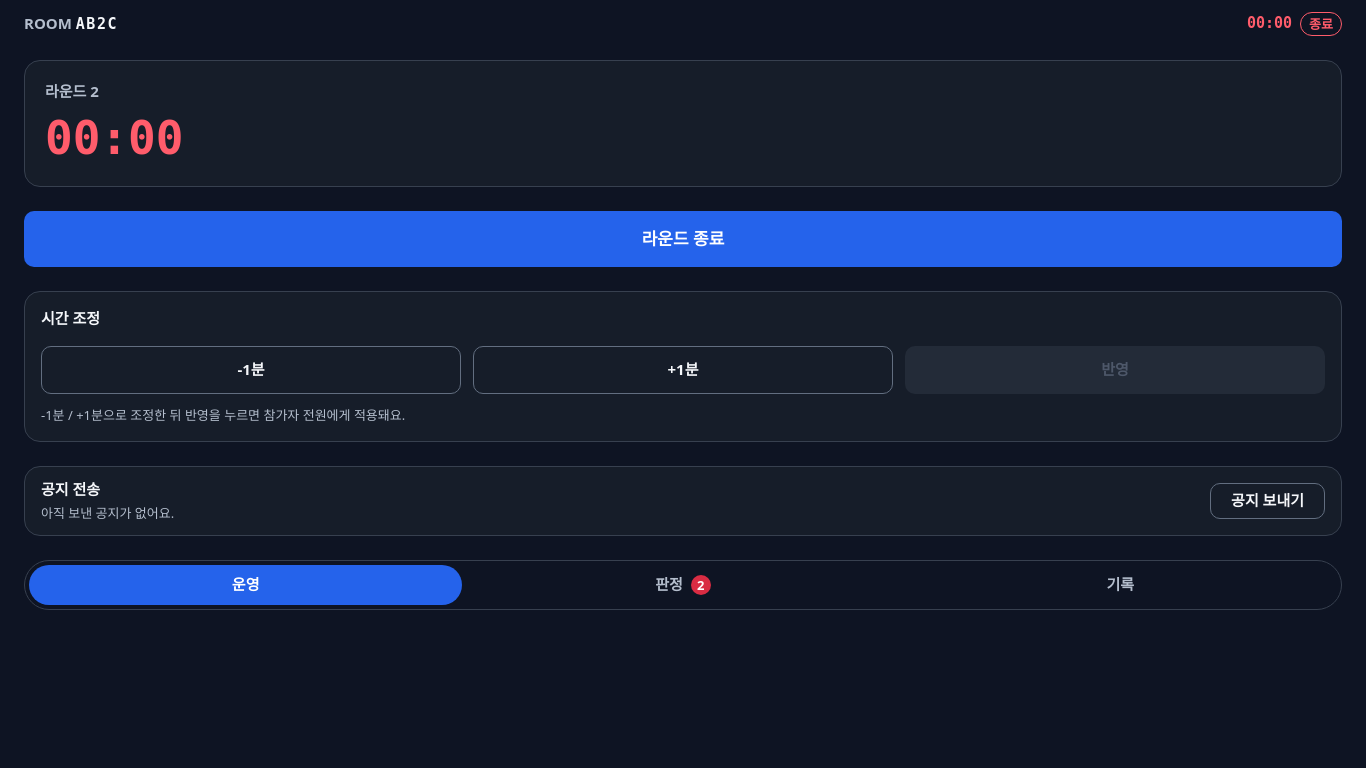
it: RoundOpsPage › 라운드 종료 › 판정 대기가 남았으면 건수를 밝히고 확인을 받는다
Click the button "라운드 종료".
click(683, 239)  # box [24, 211, 1342, 267]
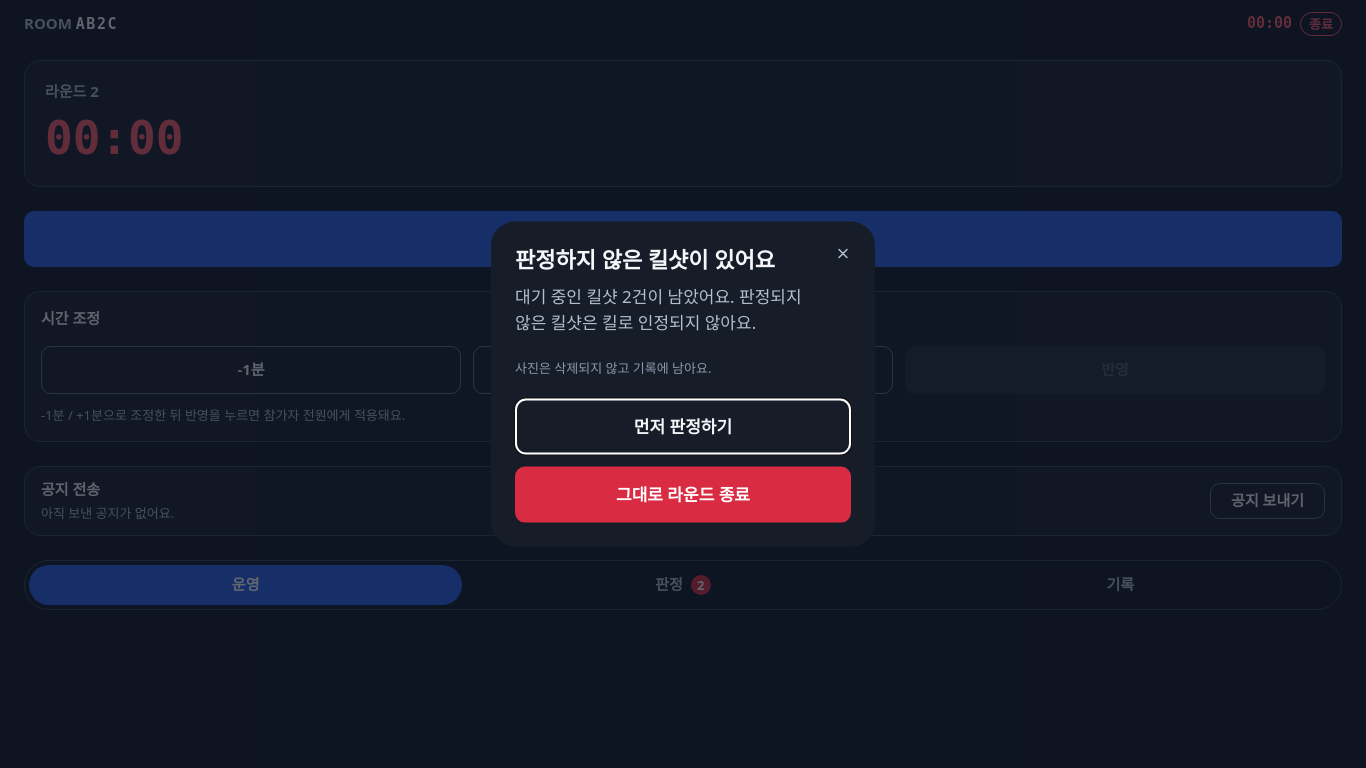
Check: the text "판정하지 않은 킬샷이 있어요" is shown, box [515, 244, 775, 274]
Check: the text "킬샷 2건이 남았어요" is shown, box [515, 285, 802, 333]
